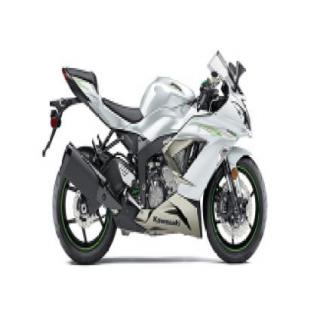Motocicleta: (42, 31, 272, 272)
